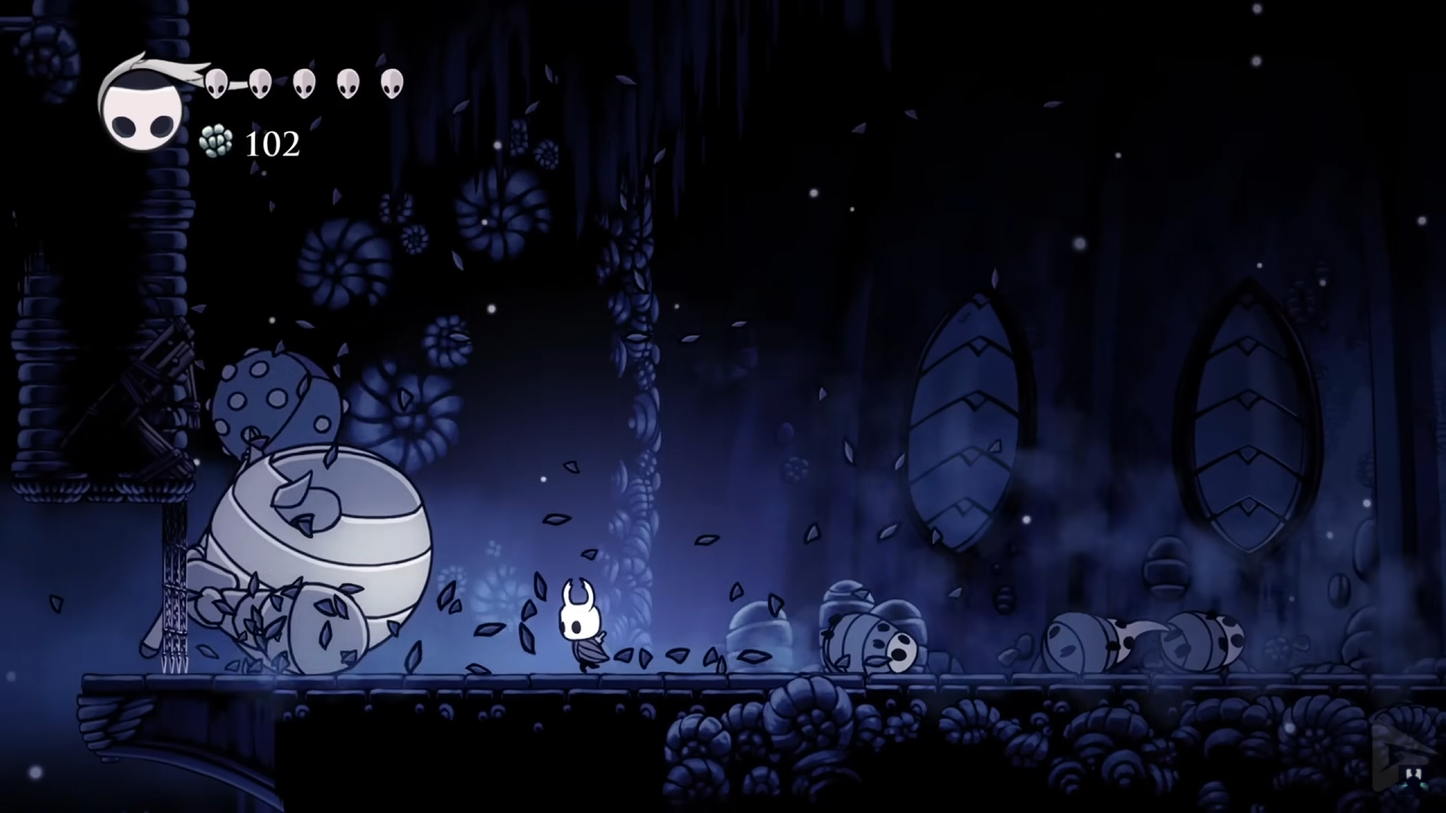HK: (552, 575, 610, 677)
